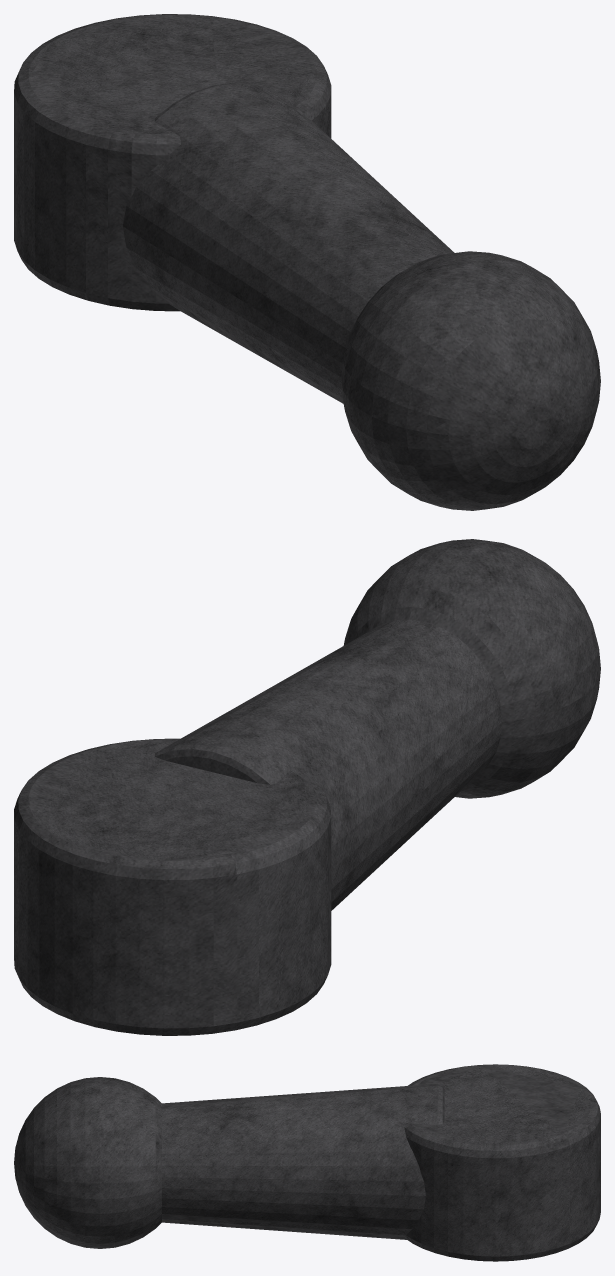
Rendered from switch_toggle_vis.obj.
The picture shows the model from 3 angles, top to bottom: view 1: azimuth 30°, elevation 25°; view 2: azimuth 150°, elevation 25°; view 3: azimuth 270°, elevation 25°; orthographic projection. The views are drawn at different scales.
Size of the model in its own units: 0.033 by 0.027 by 0.092.
Materials: 1 (1 with a texture image).
